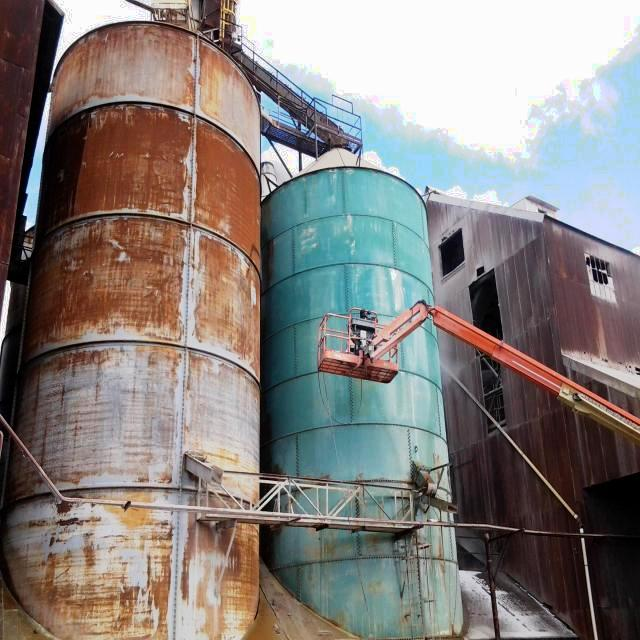Corrosion: (6, 24, 261, 502)
